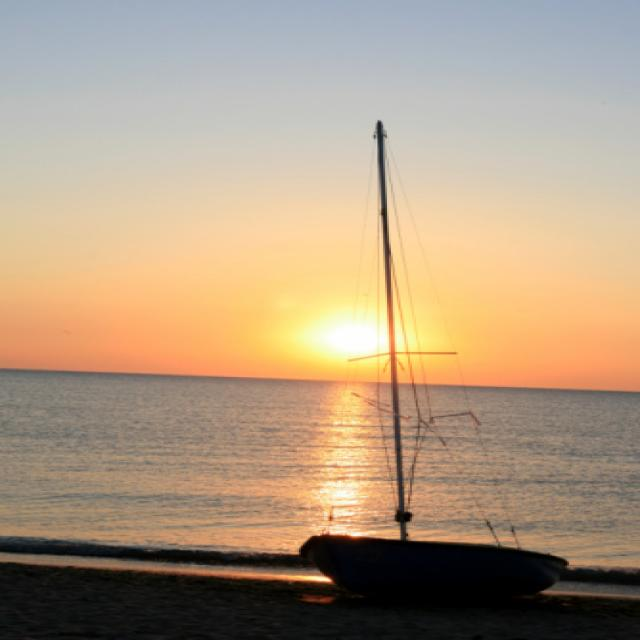People: (228, 80, 597, 608)
